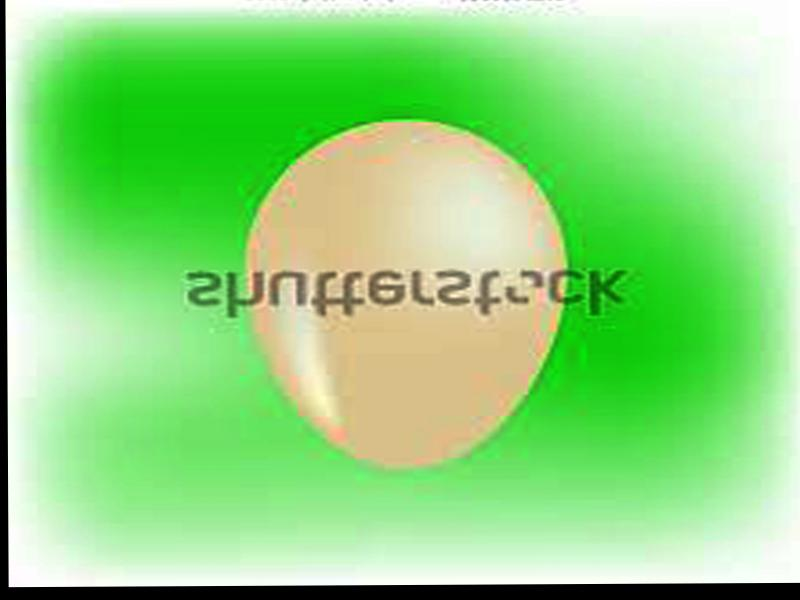Eggs: (245, 120, 569, 469)
